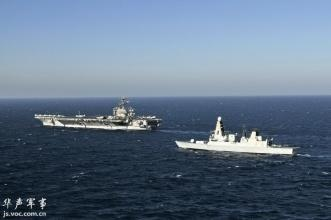warship: (172, 114, 302, 156), (32, 93, 160, 130)
